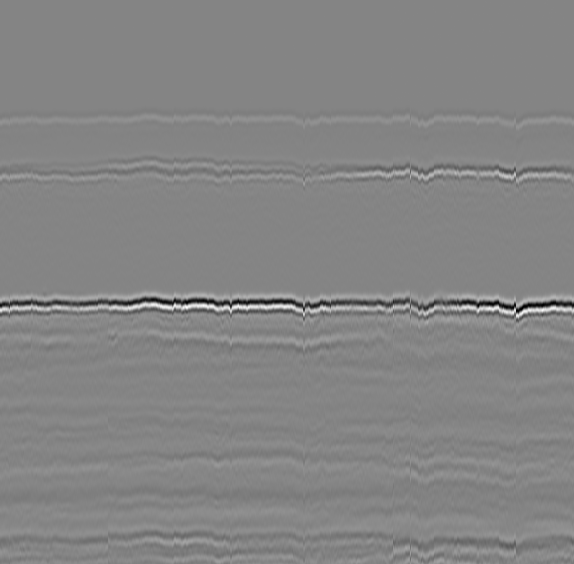fault: (409, 153, 437, 199), (295, 151, 323, 195), (408, 102, 439, 138), (294, 101, 320, 137)
